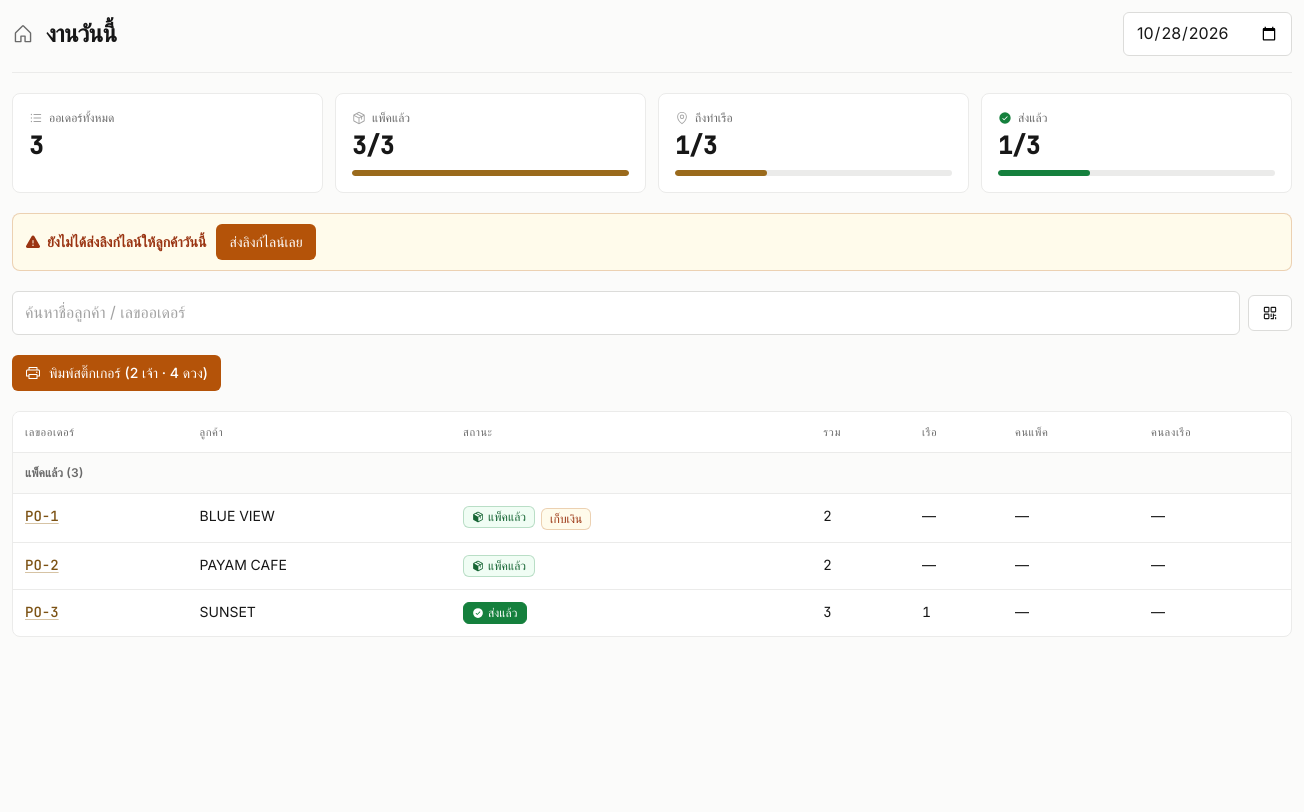
it: shows a Thai error inline when sending fails, and keeps the prompt so it can be retried
The width and height of the screenshot is (1304, 812).
Check: the text "BLUE VIEW" is shown, box [188,494,451,542]
Check: the text "ยังไม่ได้ส่งลิงก์ไลน์ให้ลูกค้าวันนี้" is shown, box [47,233,206,250]
Click the button "ส่งลิงก์ไลน์เลย" at (266, 242), box [216,224,316,260]
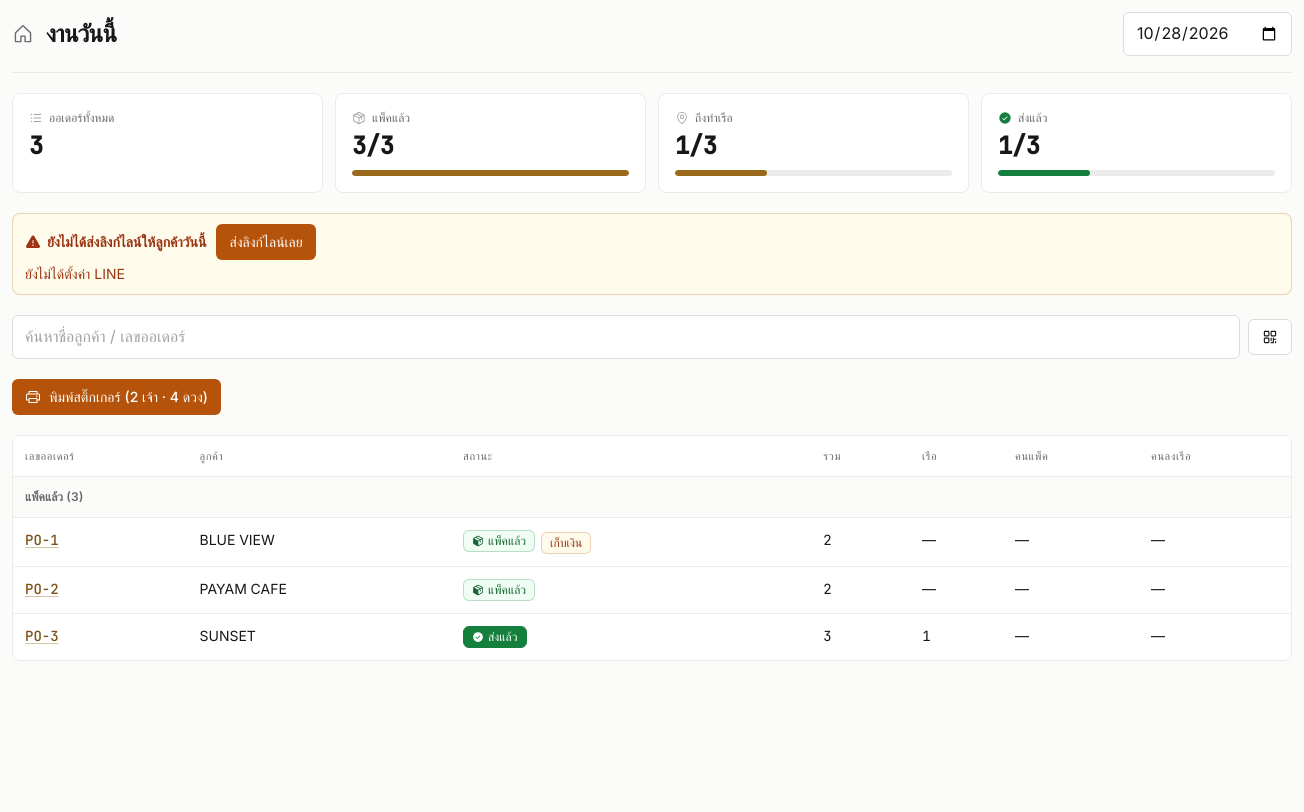
Check: the text "ยังไม่ได้ส่งลิงก์ไลน์ให้ลูกค้าวันนี้" is shown, box [47,233,206,250]
Check: the text "ยังไม่ได้ตั้งค่า LINE" is shown, box [25,265,125,282]
